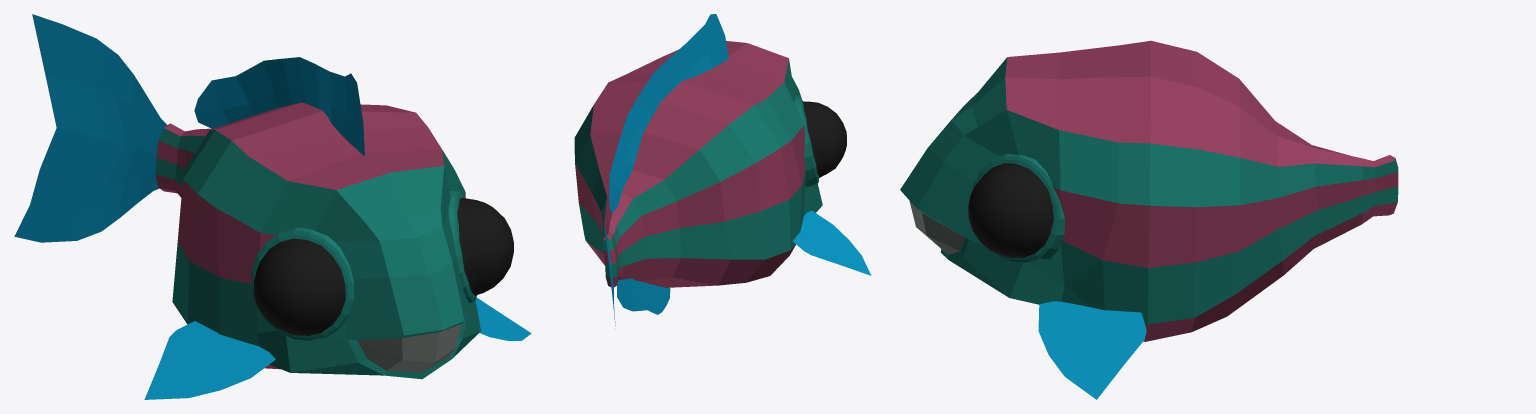
File: ParrotFish.glb
3 renders of one model, left to right at view 1: azimuth 30°, elevation 25°; view 2: azimuth 150°, elevation 25°; view 3: azimuth 270°, elevation 25°, orthographic. The views are drawn at different scales.
Parts seen in each view (by area): view 1: ParrotFish; view 2: ParrotFish; view 3: ParrotFish.
Part boxes in pixels (x1,y1,x2,y2): ParrotFish: (14, 14, 531, 399); ParrotFish: (574, 14, 871, 325); ParrotFish: (900, 40, 1398, 399).
Bounding box in the file's own units: 3.89 × 3.06 × 5.55.
